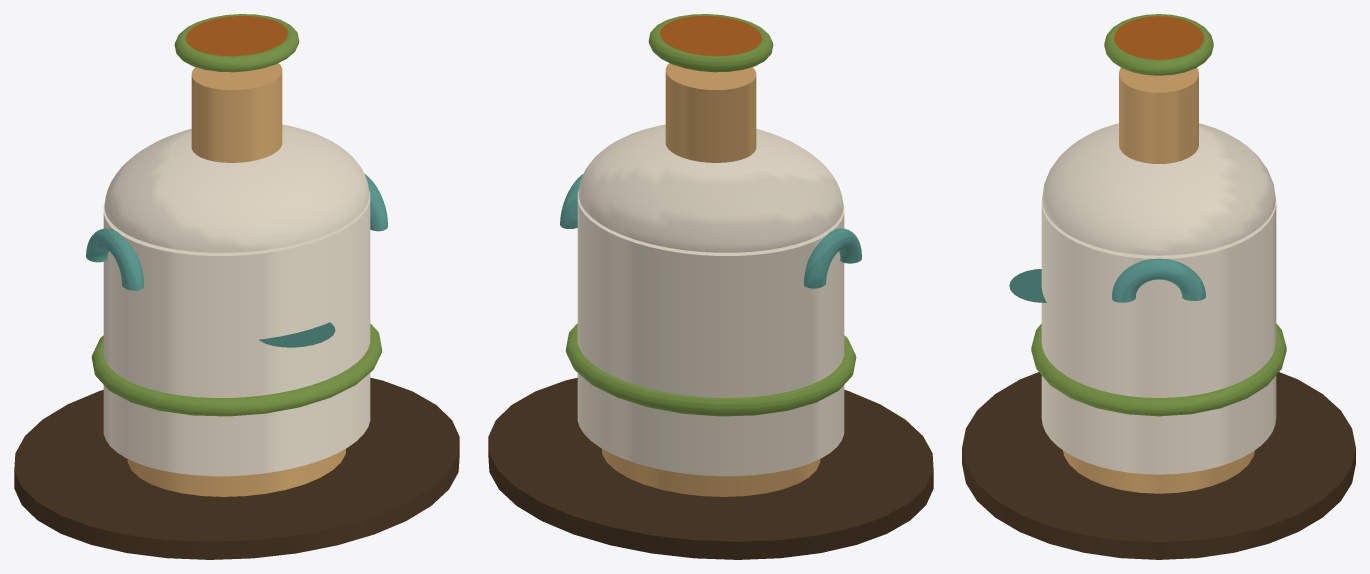
File: 0277_世界古代文明图鉴_库库尔坎金字塔.glb
3 views of the same model, side by side, from view 1: azimuth 30°, elevation 25°; view 2: azimuth 150°, elevation 25°; view 3: azimuth 270°, elevation 25° (orthographic). The views are drawn at different scales.
Parts seen in each view (by area): view 1: card_0277; view 2: card_0277; view 3: card_0277.
Part boxes in pixels (bbox=[...]): card_0277: bbox=[14, 14, 459, 559]; card_0277: bbox=[488, 14, 933, 559]; card_0277: bbox=[962, 14, 1355, 559].
Size of the model in its own units: 0.9573 by 1 by 0.8358.
